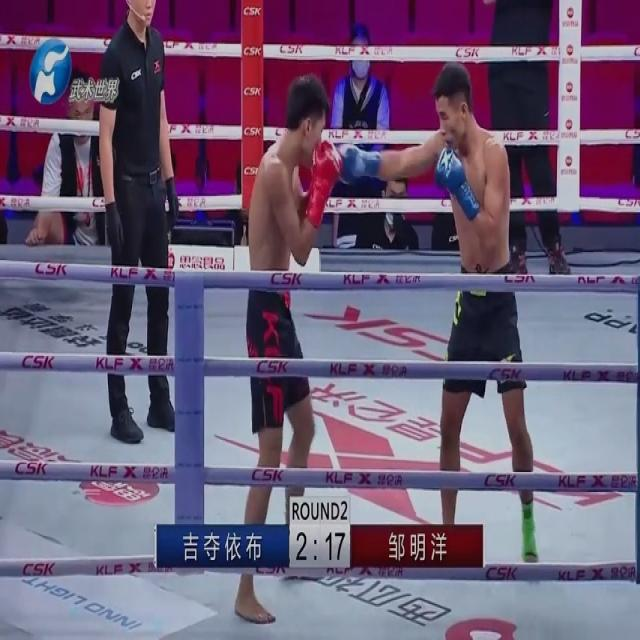fight: (228, 58, 546, 626)
non-fight: (87, 0, 180, 448)
